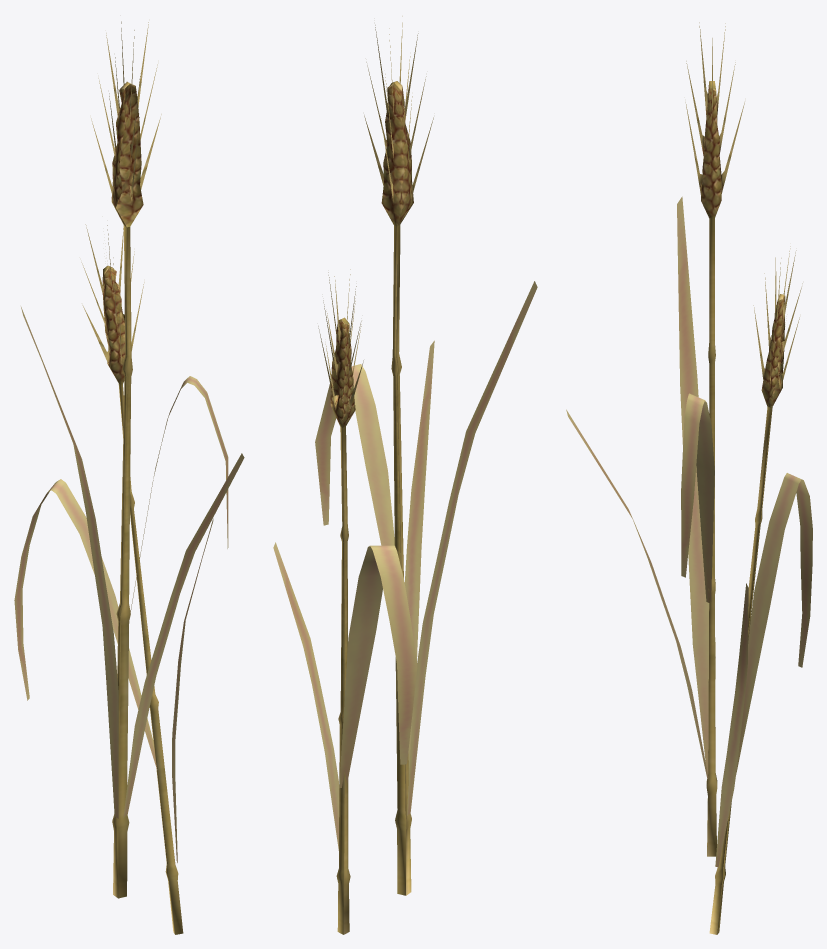
File: WheatPlants.glb
3 renders of one model, left to right at view 1: azimuth 30°, elevation 25°; view 2: azimuth 150°, elevation 25°; view 3: azimuth 270°, elevation 25°, orthographic. The views are drawn at different scales.
Visible parts, largest first — view 1: plant1stem1, plant1head1, plant1baseleaf1, plant2stem1, plant2middleleaf1, plant1baseleaf2, plant2head1, plant2baseleaf1, plant1middleleaf1; view 2: plant2middleleaf1, plant1middleleaf1, plant1stem1, plant1baseleaf1, plant1head1, plant2stem1, plant1baseleaf2, plant2head1, plant2baseleaf1; view 3: plant1baseleaf1, plant2middleleaf1, plant1middleleaf1, plant1stem1, plant1head1, plant2baseleaf1, plant2head1, plant2stem1, plant1baseleaf2.
Boxes of the visible parts, left/top/right/bottom form: plant1stem1: left=112, top=225, right=132, bottom=898; plant1head1: left=91, top=21, right=161, bottom=227; plant1baseleaf1: left=21, top=307, right=118, bottom=818; plant2stem1: left=118, top=384, right=183, bottom=934; plant2middleleaf1: left=14, top=479, right=157, bottom=769; plant1baseleaf2: left=123, top=453, right=244, bottom=817; plant2head1: left=81, top=224, right=144, bottom=384; plant2baseleaf1: left=172, top=518, right=213, bottom=862; plant1middleleaf1: left=127, top=376, right=228, bottom=629; plant2middleleaf1: left=339, top=545, right=417, bottom=788; plant1middleleaf1: left=315, top=364, right=394, bottom=545; plant1stem1: left=391, top=225, right=411, bottom=895; plant1baseleaf1: left=407, top=281, right=537, bottom=815; plant1head1: left=364, top=16, right=433, bottom=226; plant2stem1: left=336, top=426, right=350, bottom=934; plant1baseleaf2: left=404, top=340, right=434, bottom=779; plant2head1: left=318, top=269, right=363, bottom=427; plant2baseleaf1: left=273, top=542, right=339, bottom=850; plant1baseleaf1: left=677, top=196, right=715, bottom=773; plant2middleleaf1: left=736, top=473, right=812, bottom=774; plant1middleleaf1: left=681, top=393, right=714, bottom=602; plant1stem1: left=706, top=218, right=717, bottom=856; plant1head1: left=685, top=22, right=744, bottom=218; plant2baseleaf1: left=715, top=583, right=748, bottom=867; plant2head1: left=753, top=246, right=802, bottom=407; plant2stem1: left=709, top=407, right=772, bottom=934; plant1baseleaf2: left=566, top=409, right=708, bottom=779.
Size of the model in its own units: 0.4258 by 1.66 by 0.4175.
1 material, 1 textured.
